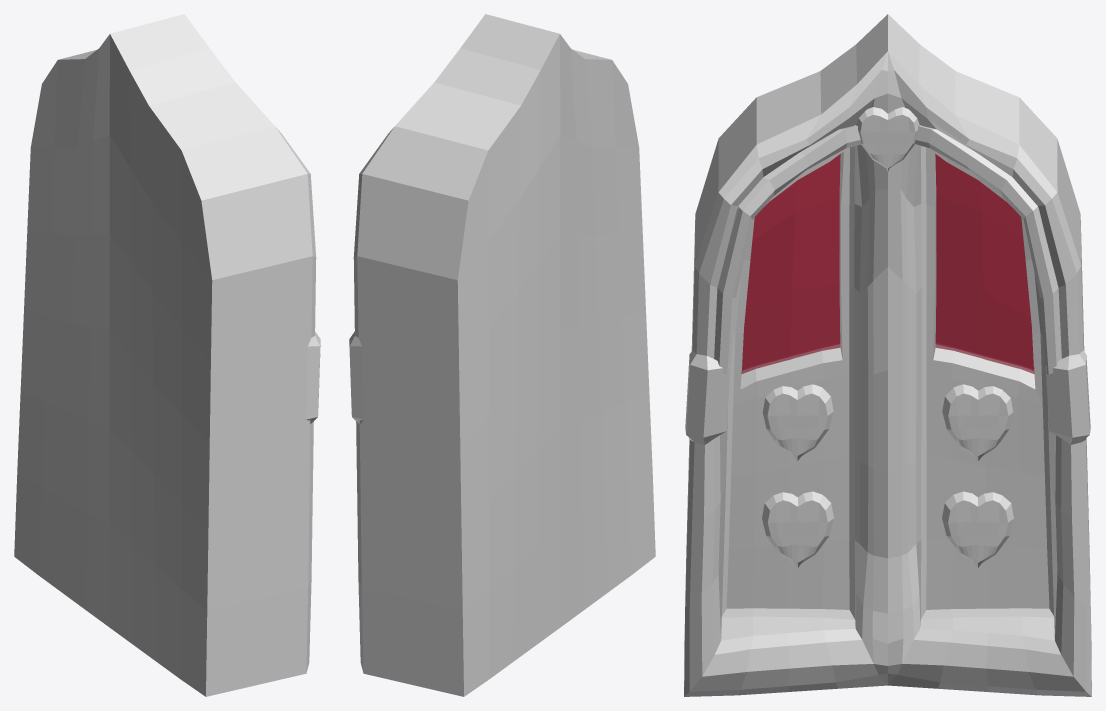
Rendered from QueensGardenDoor.fbx.
The picture shows the model from 3 angles, left to right: view 1: azimuth 30°, elevation 25°; view 2: azimuth 150°, elevation 25°; view 3: azimuth 270°, elevation 25°; orthographic projection. The views are drawn at different scales.
Visible parts, largest first — view 1: Cube; view 2: Cube; view 3: Cube, Cube.001, Cube.002.
Part boxes in pixels (x1,y1,x2,y2): Cube: (14, 14, 320, 696); Cube: (349, 14, 655, 696); Cube: (684, 14, 1091, 696); Cube.001: (741, 154, 1034, 373); Cube.002: (856, 107, 919, 171).
Size of the model in its own units: 239 by 1080 by 629.
